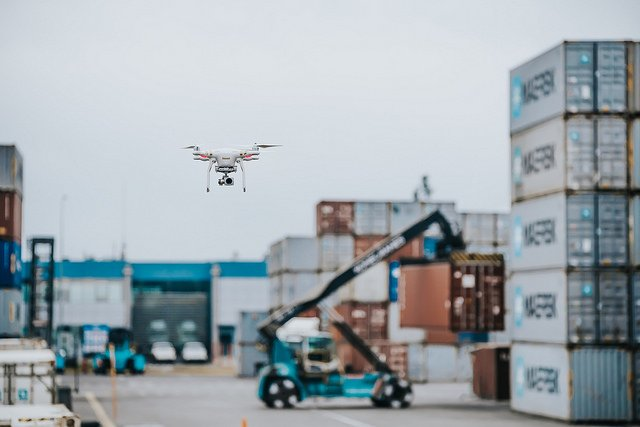drone: (174, 139, 285, 197)
